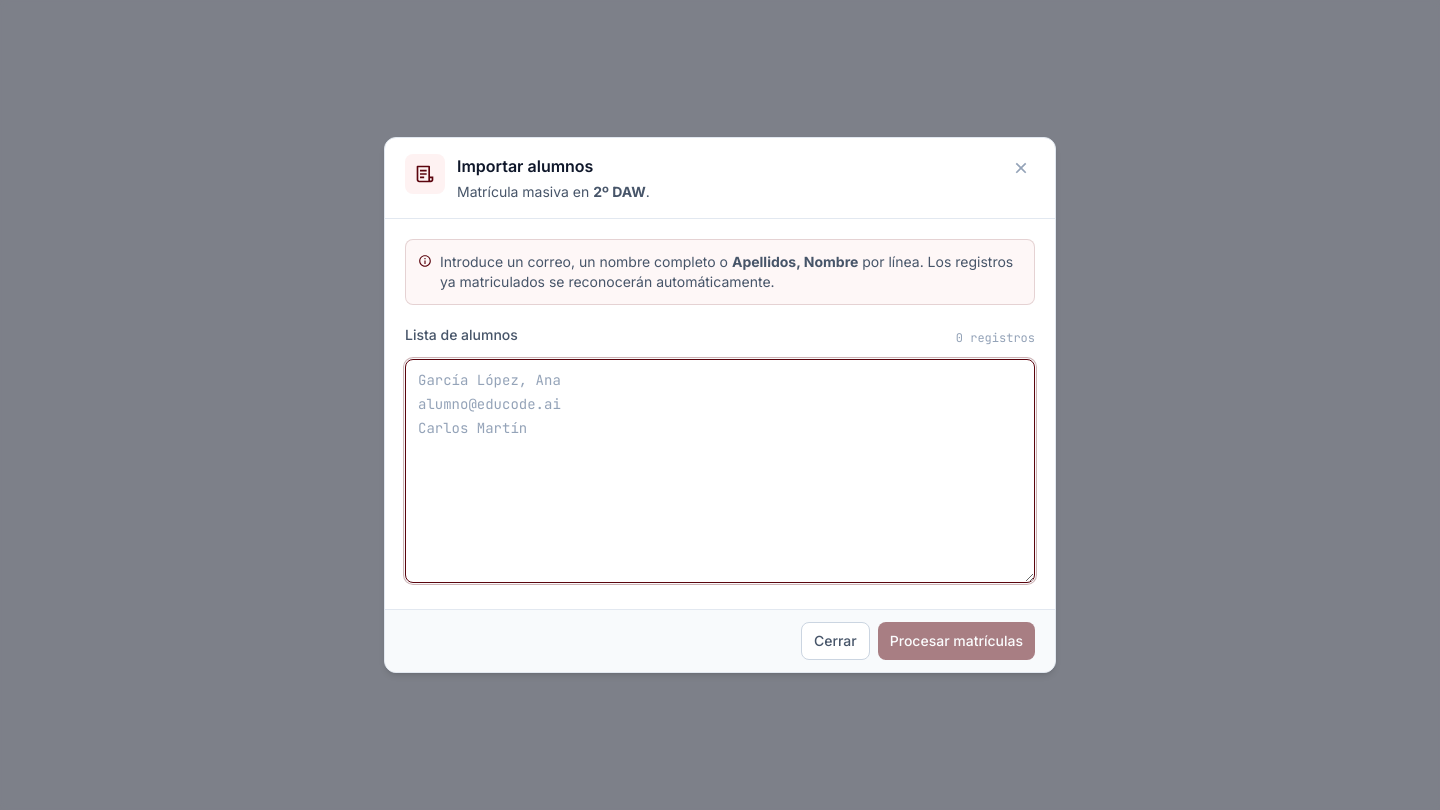
Test: BulkEnrollmentDialog › limpia la entrada cuando todos los registros se procesan
The width and height of the screenshot is (1440, 810).
Type "ana@example.com" into the text box labelled "Lista de alumnos" at {"x": 720, "y": 471}, box [405, 359, 1035, 583]
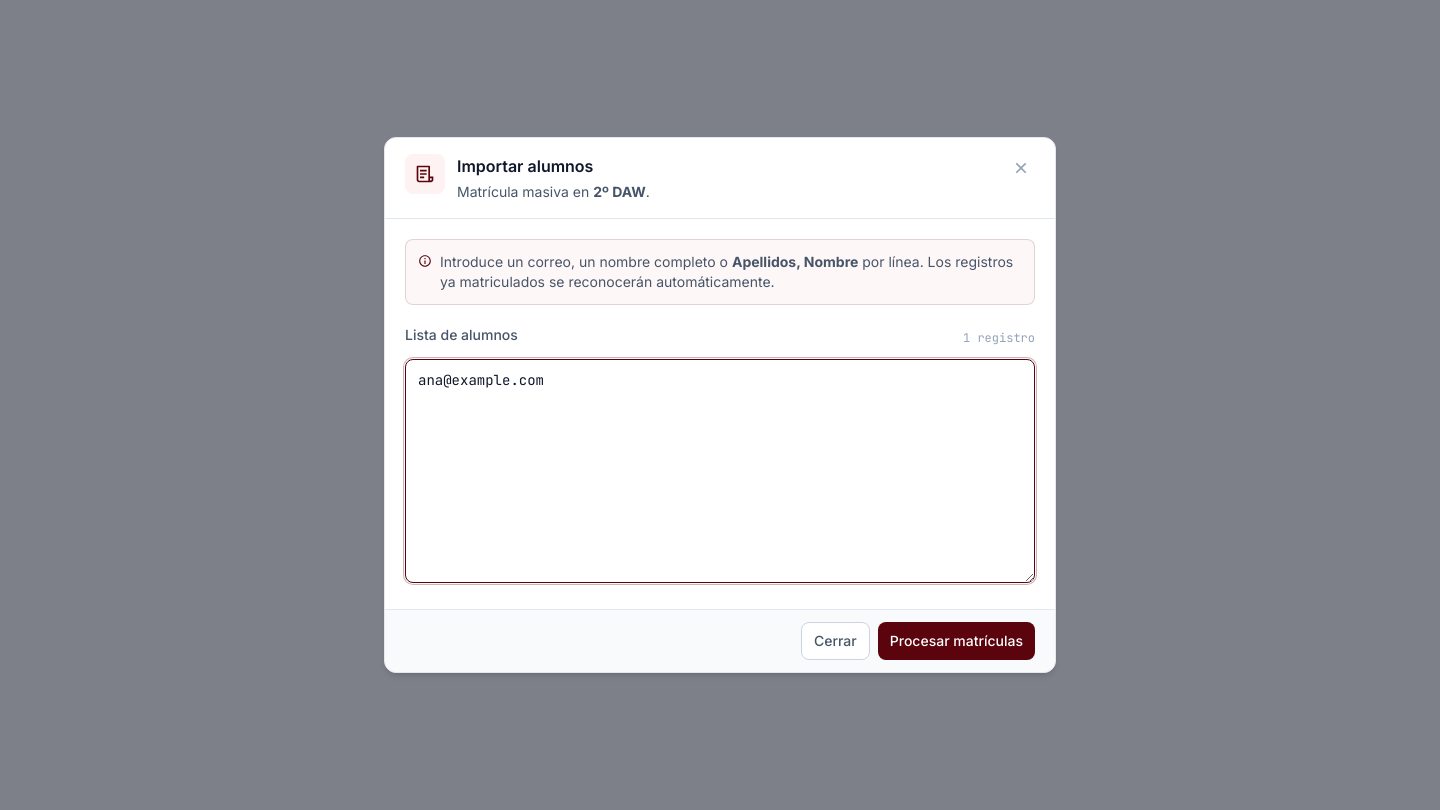
Click the button "Procesar matrículas" at {"x": 956, "y": 641}, box [878, 622, 1035, 660]
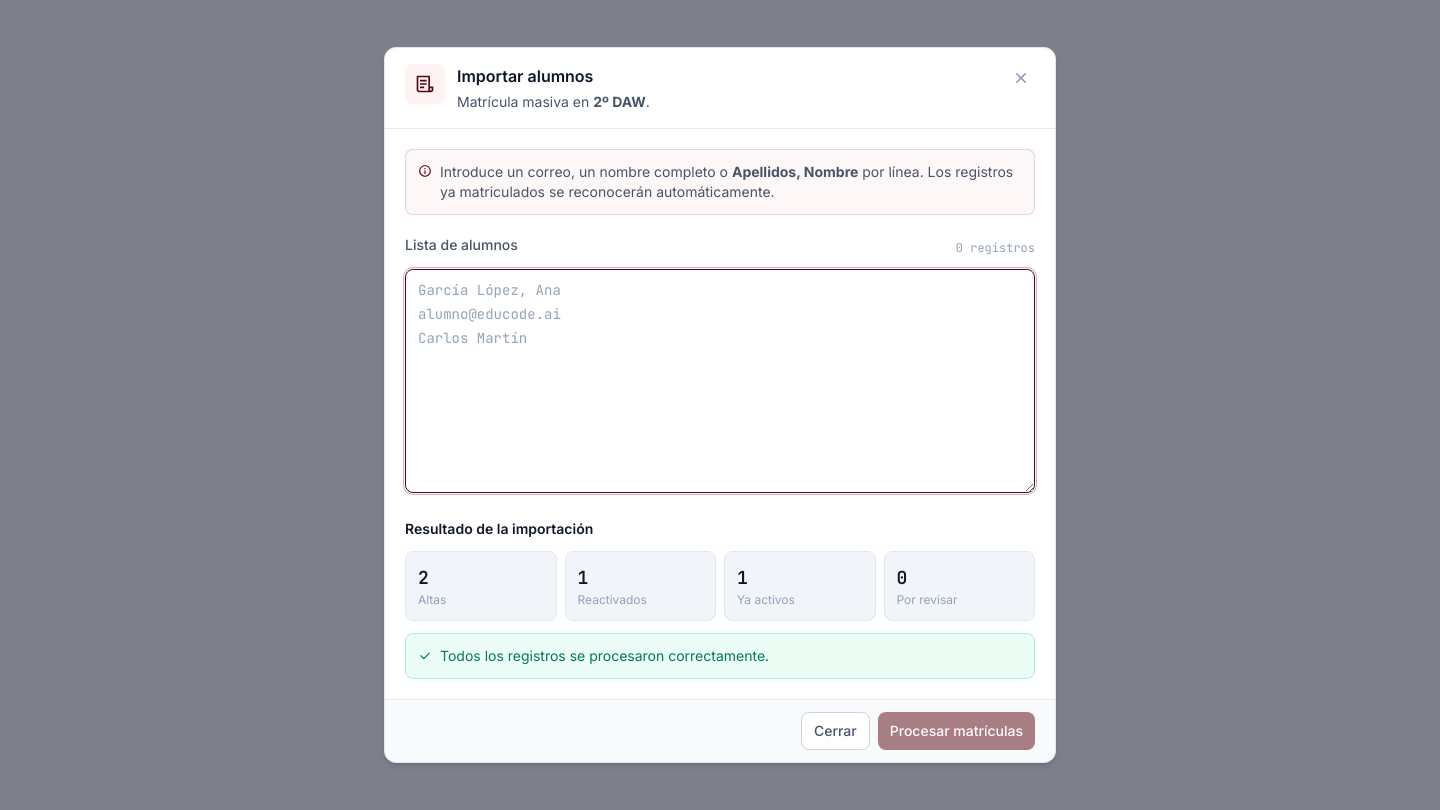
Expected: the text box labelled "Lista de alumnos" is empty, [405, 269, 1035, 493]
Expected: the text "Todos los registros se procesaron correctamente." is shown, [405, 633, 1035, 679]
